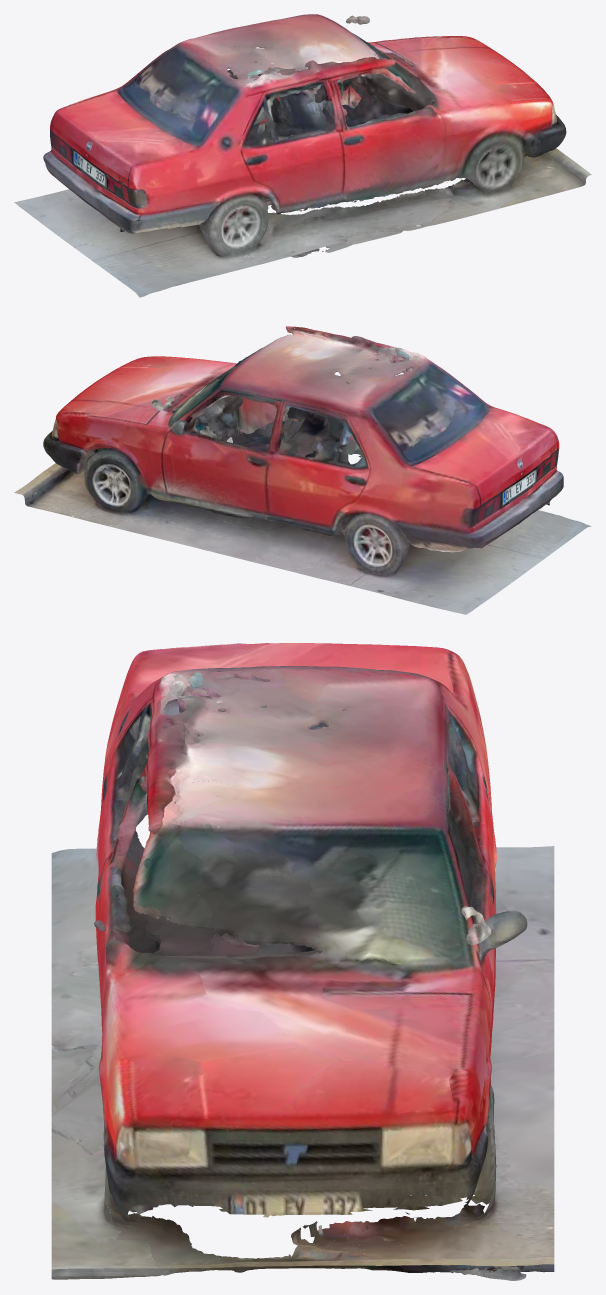
File: sahin.glb
3 renders of one model, top to bottom at view 1: azimuth 30°, elevation 25°; view 2: azimuth 150°, elevation 25°; view 3: azimuth 270°, elevation 25°, orthographic. The views are drawn at different scales.
Visible parts, largest first — view 1: Object_2, Object_3; view 2: Object_2, Object_3; view 3: Object_2, Object_3.
Boxes of the visible parts, x1,y1,x2,y2 form: Object_2: (14, 14, 591, 294); Object_3: (55, 40, 549, 297); Object_2: (14, 326, 588, 614); Object_3: (41, 327, 591, 568); Object_2: (51, 643, 554, 1280); Object_3: (51, 666, 527, 1272).
Size of the model in its own units: 4.32 by 1.53 by 2.08.
Materials: 1 (1 with a texture image).
